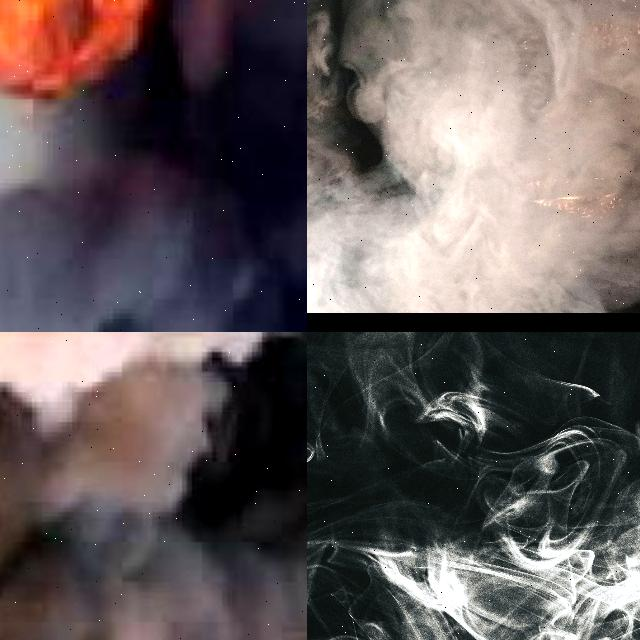smoke: (307, 0, 640, 313), (307, 332, 640, 640), (0, 0, 307, 332), (0, 332, 307, 640)
